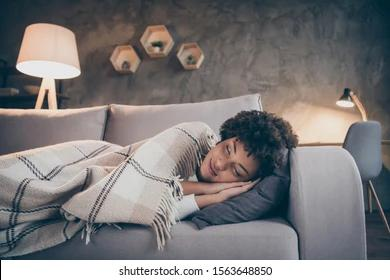blanket: (0, 121, 218, 258)
